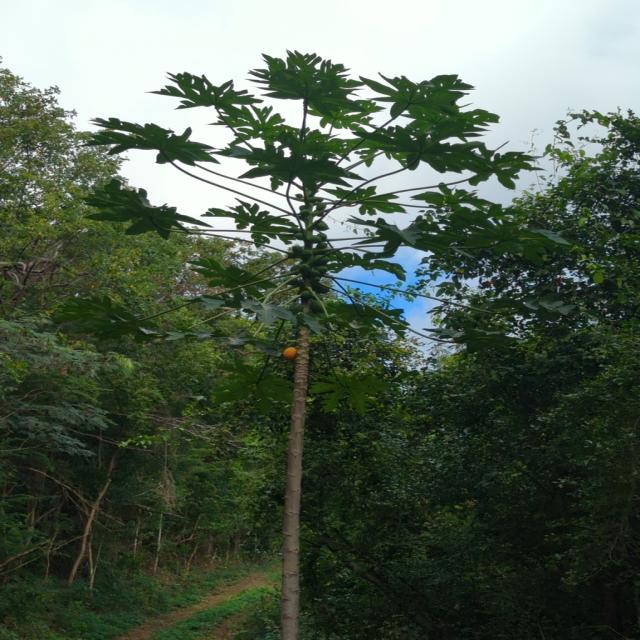Papaya-Tree: (159, 74, 448, 637)
